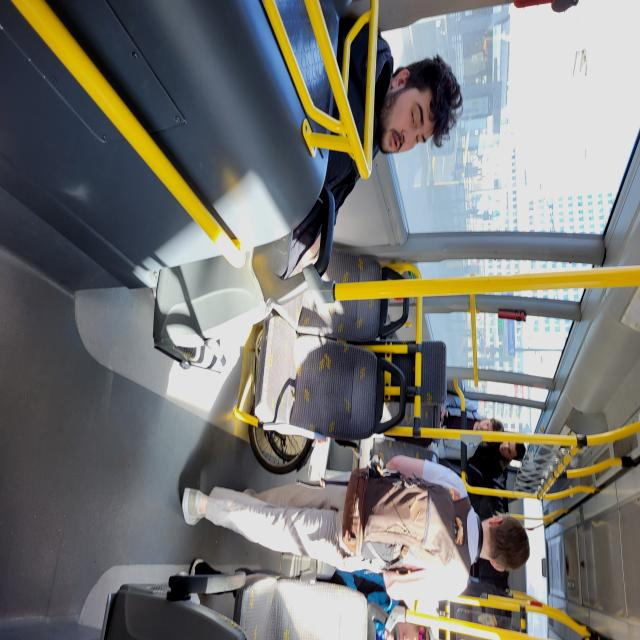asiento-libre: (393, 312, 491, 514), (346, 306, 418, 489), (589, 362, 640, 544), (487, 269, 513, 381)
